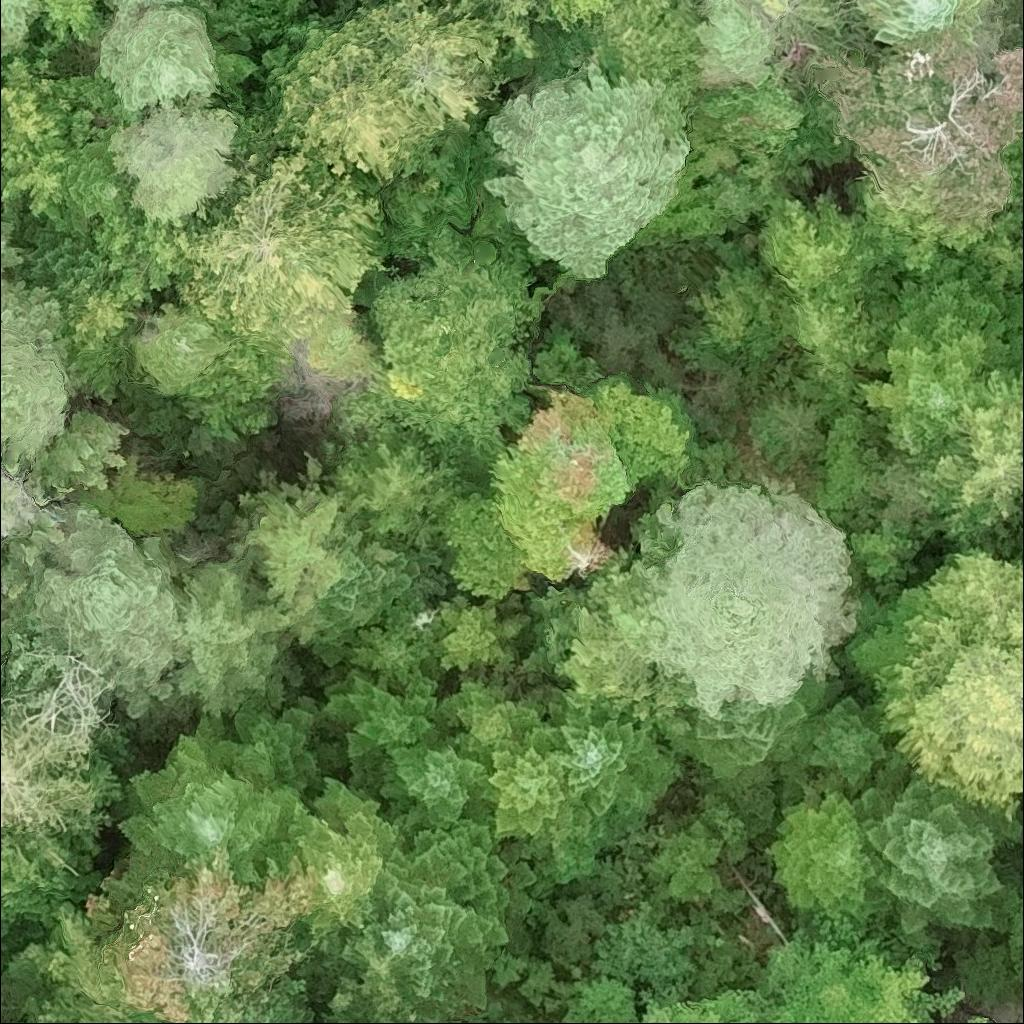crown: (627, 475, 859, 723), (308, 805, 540, 1023), (337, 242, 538, 470), (481, 64, 689, 283), (0, 501, 186, 716), (177, 150, 386, 341), (90, 844, 310, 1023), (808, 41, 1023, 217), (849, 746, 1023, 935), (852, 277, 1017, 469), (113, 713, 302, 880), (264, 17, 441, 185), (879, 614, 1023, 816), (225, 447, 368, 643), (489, 385, 628, 581), (763, 188, 899, 377), (173, 548, 300, 730), (49, 208, 196, 362), (284, 766, 407, 949), (532, 686, 682, 830), (306, 525, 452, 670), (354, 0, 507, 134), (524, 563, 664, 707), (928, 358, 1023, 557), (483, 727, 601, 886), (330, 424, 483, 541), (678, 674, 832, 788), (107, 94, 241, 222), (0, 276, 83, 480), (0, 700, 104, 846), (760, 783, 876, 913), (311, 667, 450, 774), (347, 728, 494, 829), (94, 3, 218, 122), (0, 64, 99, 209), (764, 958, 963, 1023), (218, 690, 341, 785), (593, 382, 691, 493), (15, 414, 129, 506), (791, 683, 889, 790), (922, 544, 1023, 643), (134, 303, 236, 397), (592, 0, 699, 88), (44, 138, 138, 234), (852, 0, 999, 61), (447, 493, 526, 599), (430, 594, 530, 674), (704, 81, 805, 159), (2, 210, 98, 290), (755, 929, 851, 1006), (343, 604, 436, 683), (438, 681, 550, 746), (284, 312, 384, 381), (30, 652, 117, 730), (752, 0, 854, 52), (0, 470, 63, 547), (229, 969, 318, 1023), (640, 988, 770, 1023), (35, 0, 101, 44), (548, 0, 629, 32), (0, 0, 42, 55), (0, 214, 29, 290), (101, 0, 214, 19), (303, 1009, 370, 1023), (280, 0, 303, 18), (332, 0, 359, 9), (973, 1016, 986, 1023), (214, 1020, 230, 1023), (159, 1022, 168, 1023)
